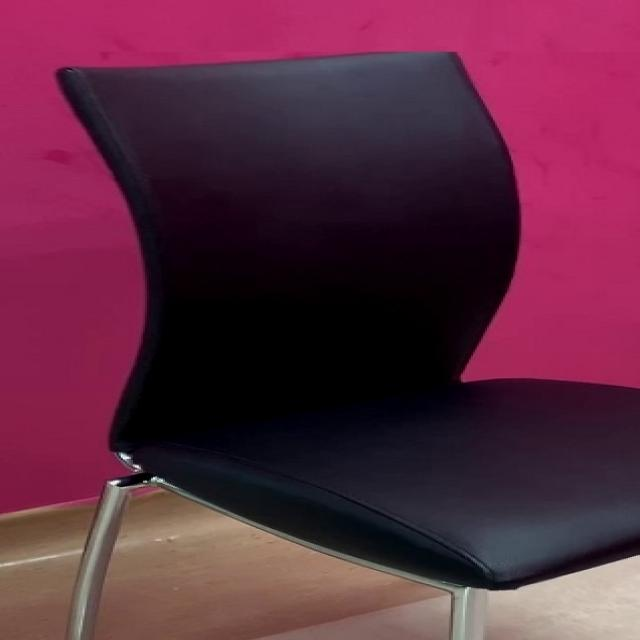Chair: (49, 49, 623, 640)
